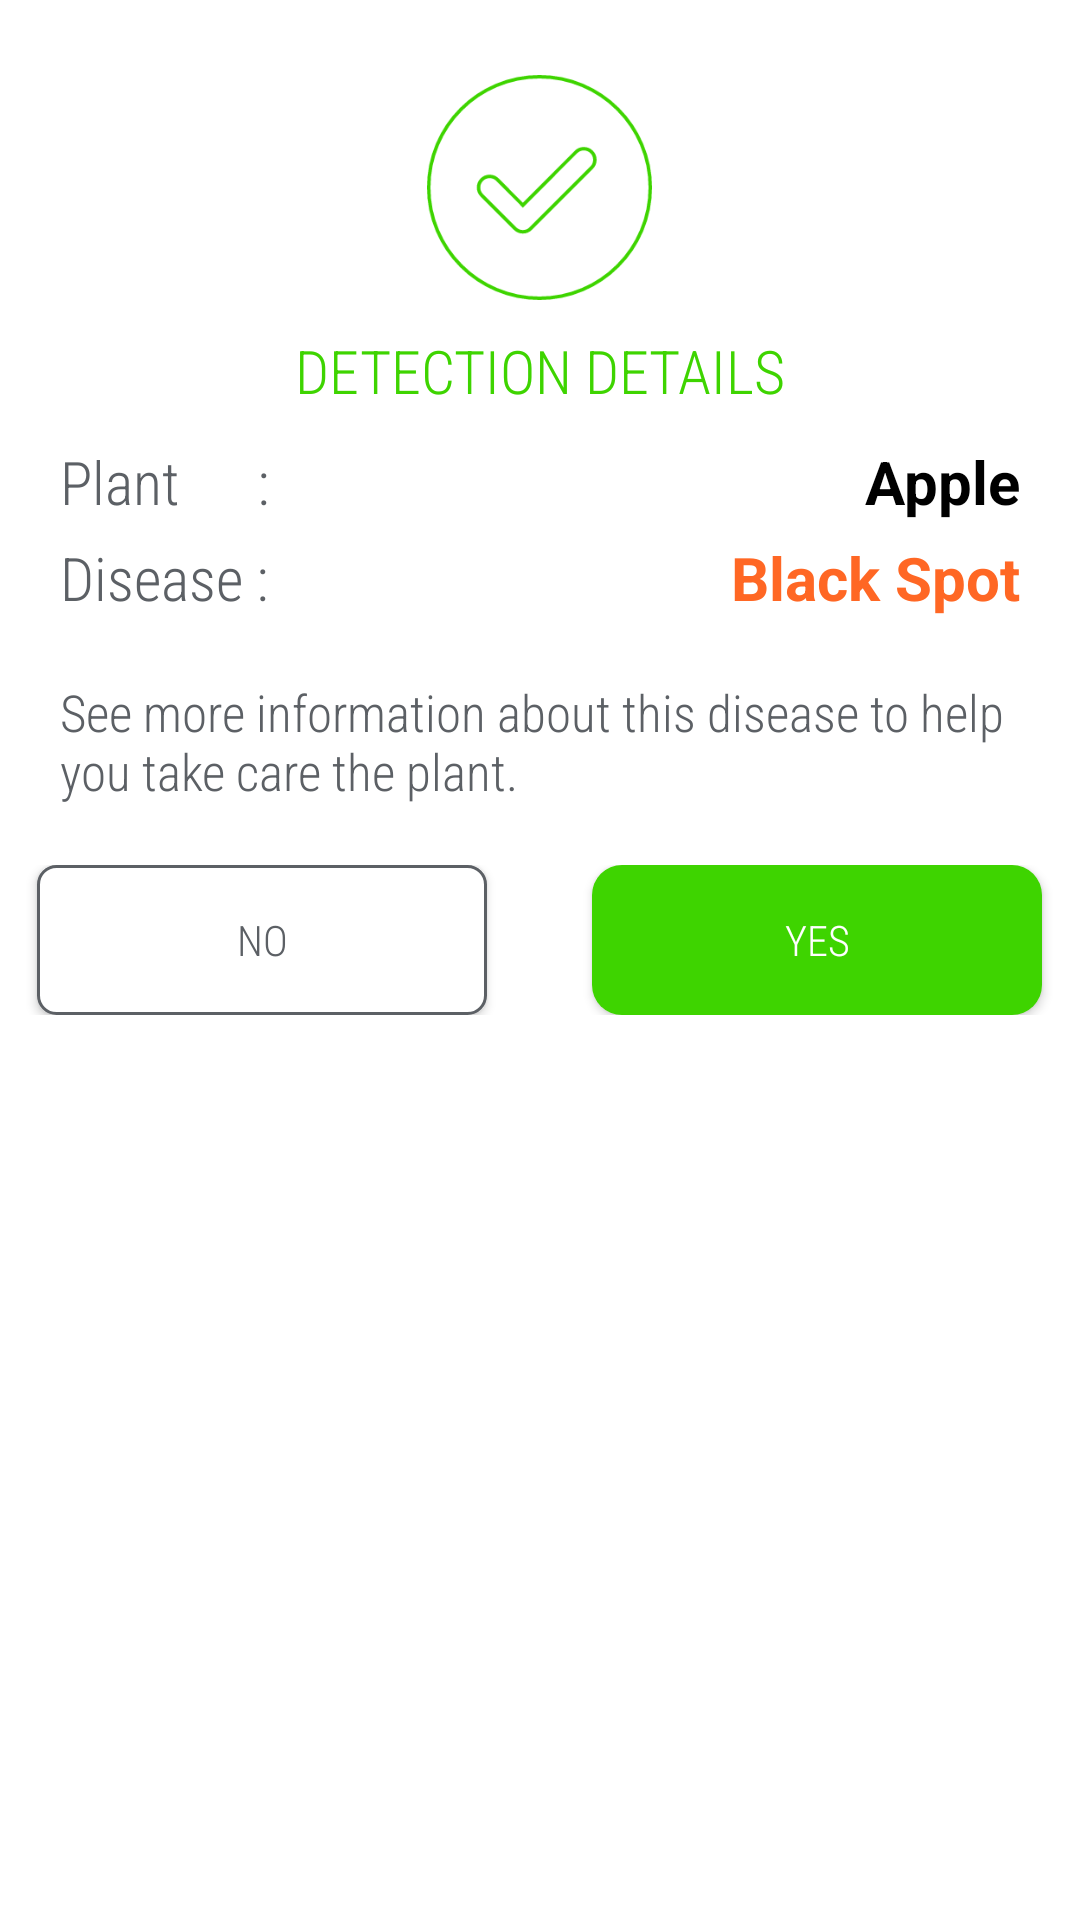

Named icons in this screenshot (1080*1920) and their bounding boxes, (x1, y1, x2, y2):
success: (427, 75, 652, 300)
